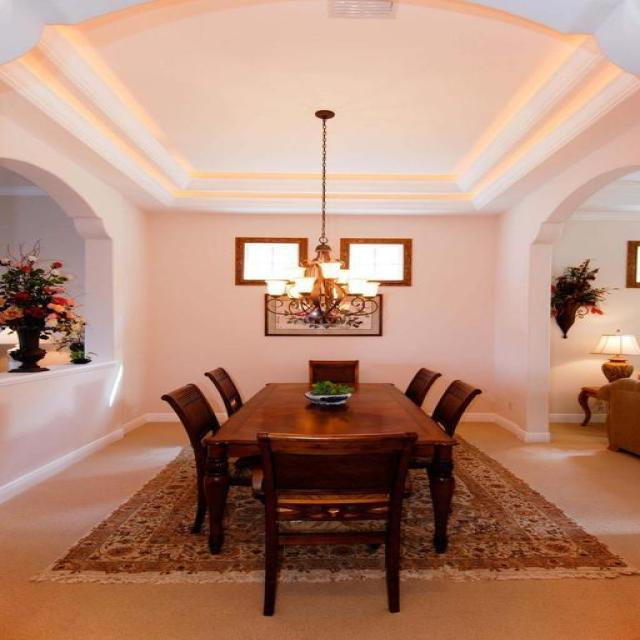carpet: (28, 431, 638, 586)
chair: (252, 430, 418, 616), (160, 382, 261, 534), (307, 359, 358, 384)
lamps: (263, 109, 382, 325), (589, 328, 639, 382)
plants: (0, 237, 94, 373), (549, 257, 619, 338)
pots: (303, 390, 352, 405)
sofa: (596, 374, 639, 456)
table: (200, 382, 459, 554)
windows: (338, 237, 412, 286), (234, 236, 308, 285)
